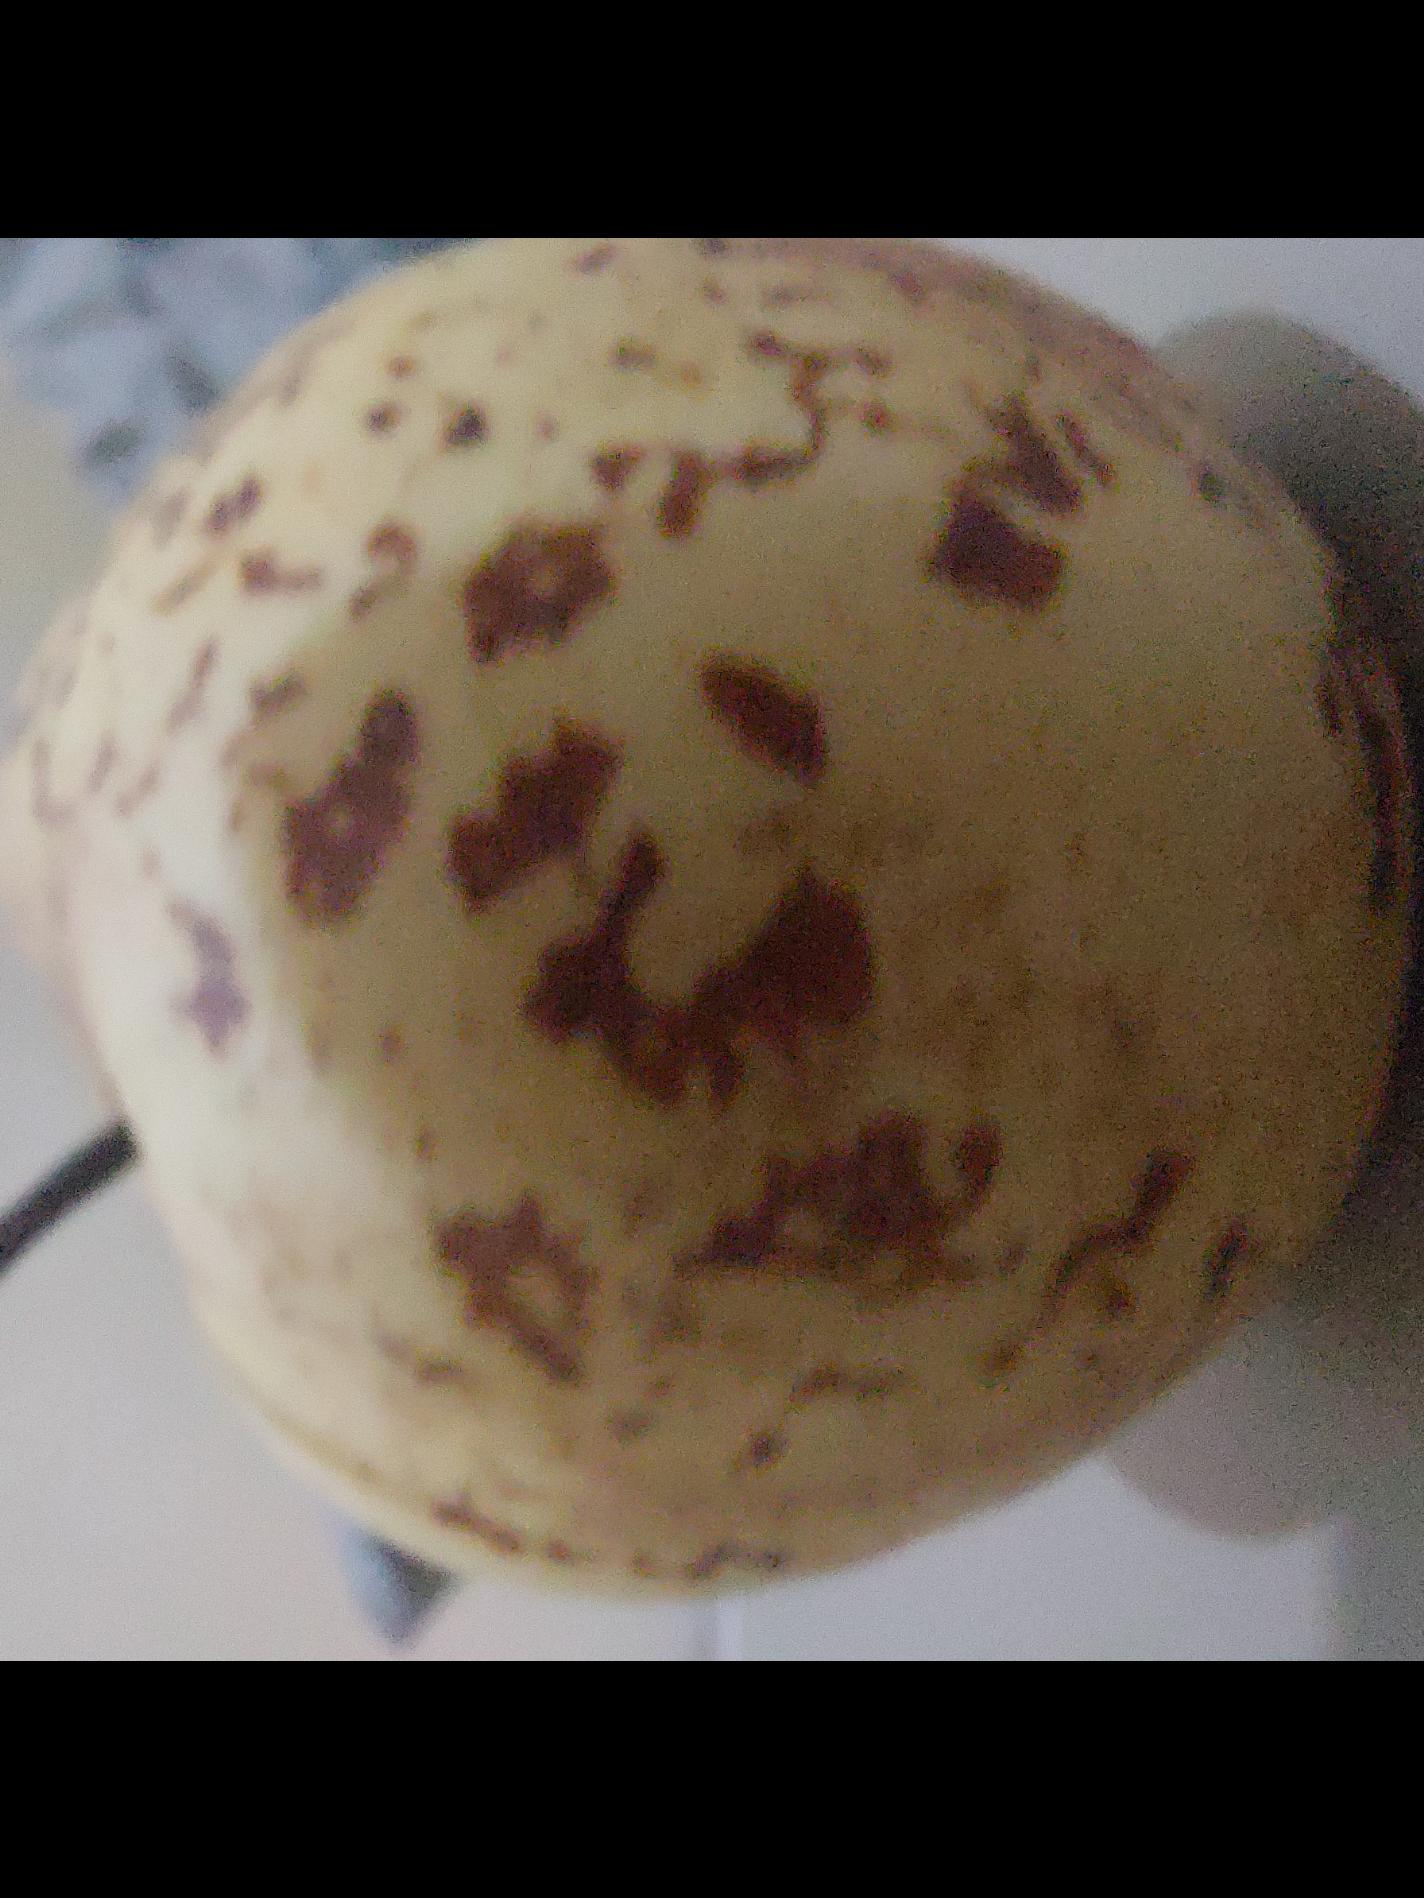Bad Pear: (0, 236, 1424, 1612)
